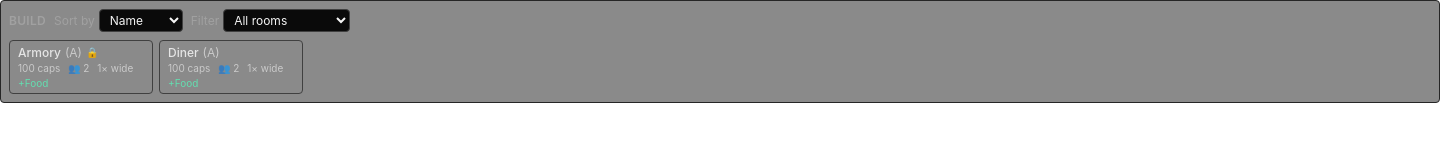
Test case: BuildPalette › filters the boxes from the Filter dropdown (locked only)
Select "Locked" in the dropdown named "Filter rooms" at (287, 20), box [223,9,350,32]
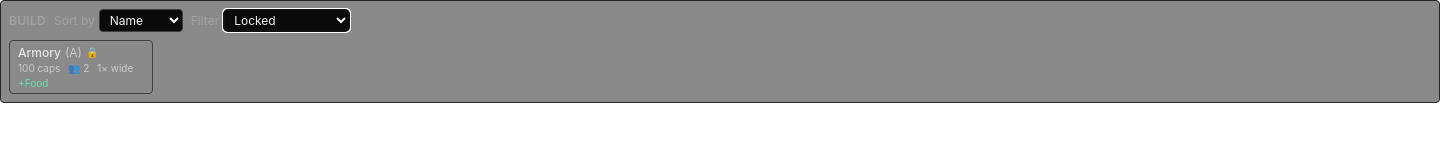
Expected: the button "Armory (A) 🔒 100 caps 👥 2 1× wide +Food" is shown, [9,40,153,94]
Now the button "Diner" is gone
